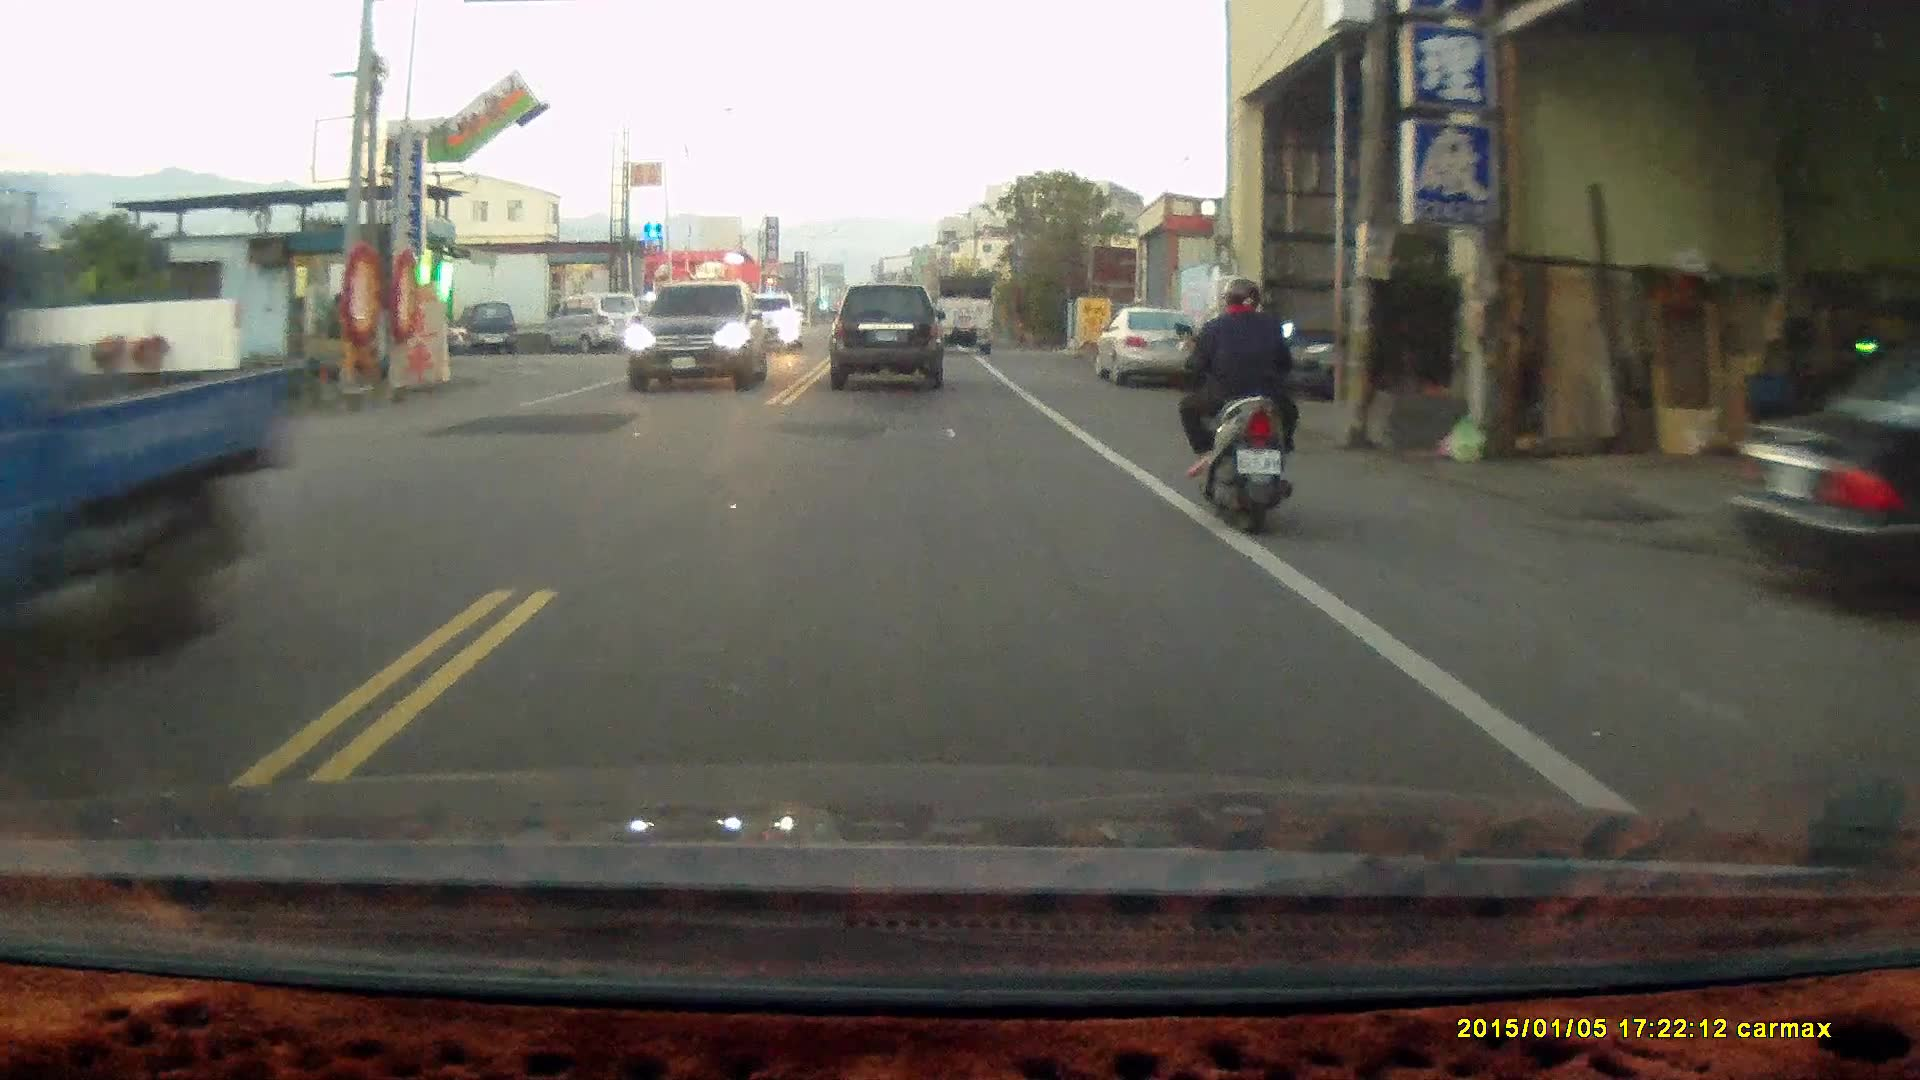rider: (1171, 272, 1302, 537)
vehicle: (1, 225, 284, 665), (1726, 350, 1918, 628), (626, 281, 774, 397), (829, 281, 946, 389), (1093, 304, 1198, 383), (549, 291, 642, 354), (928, 268, 998, 348)
